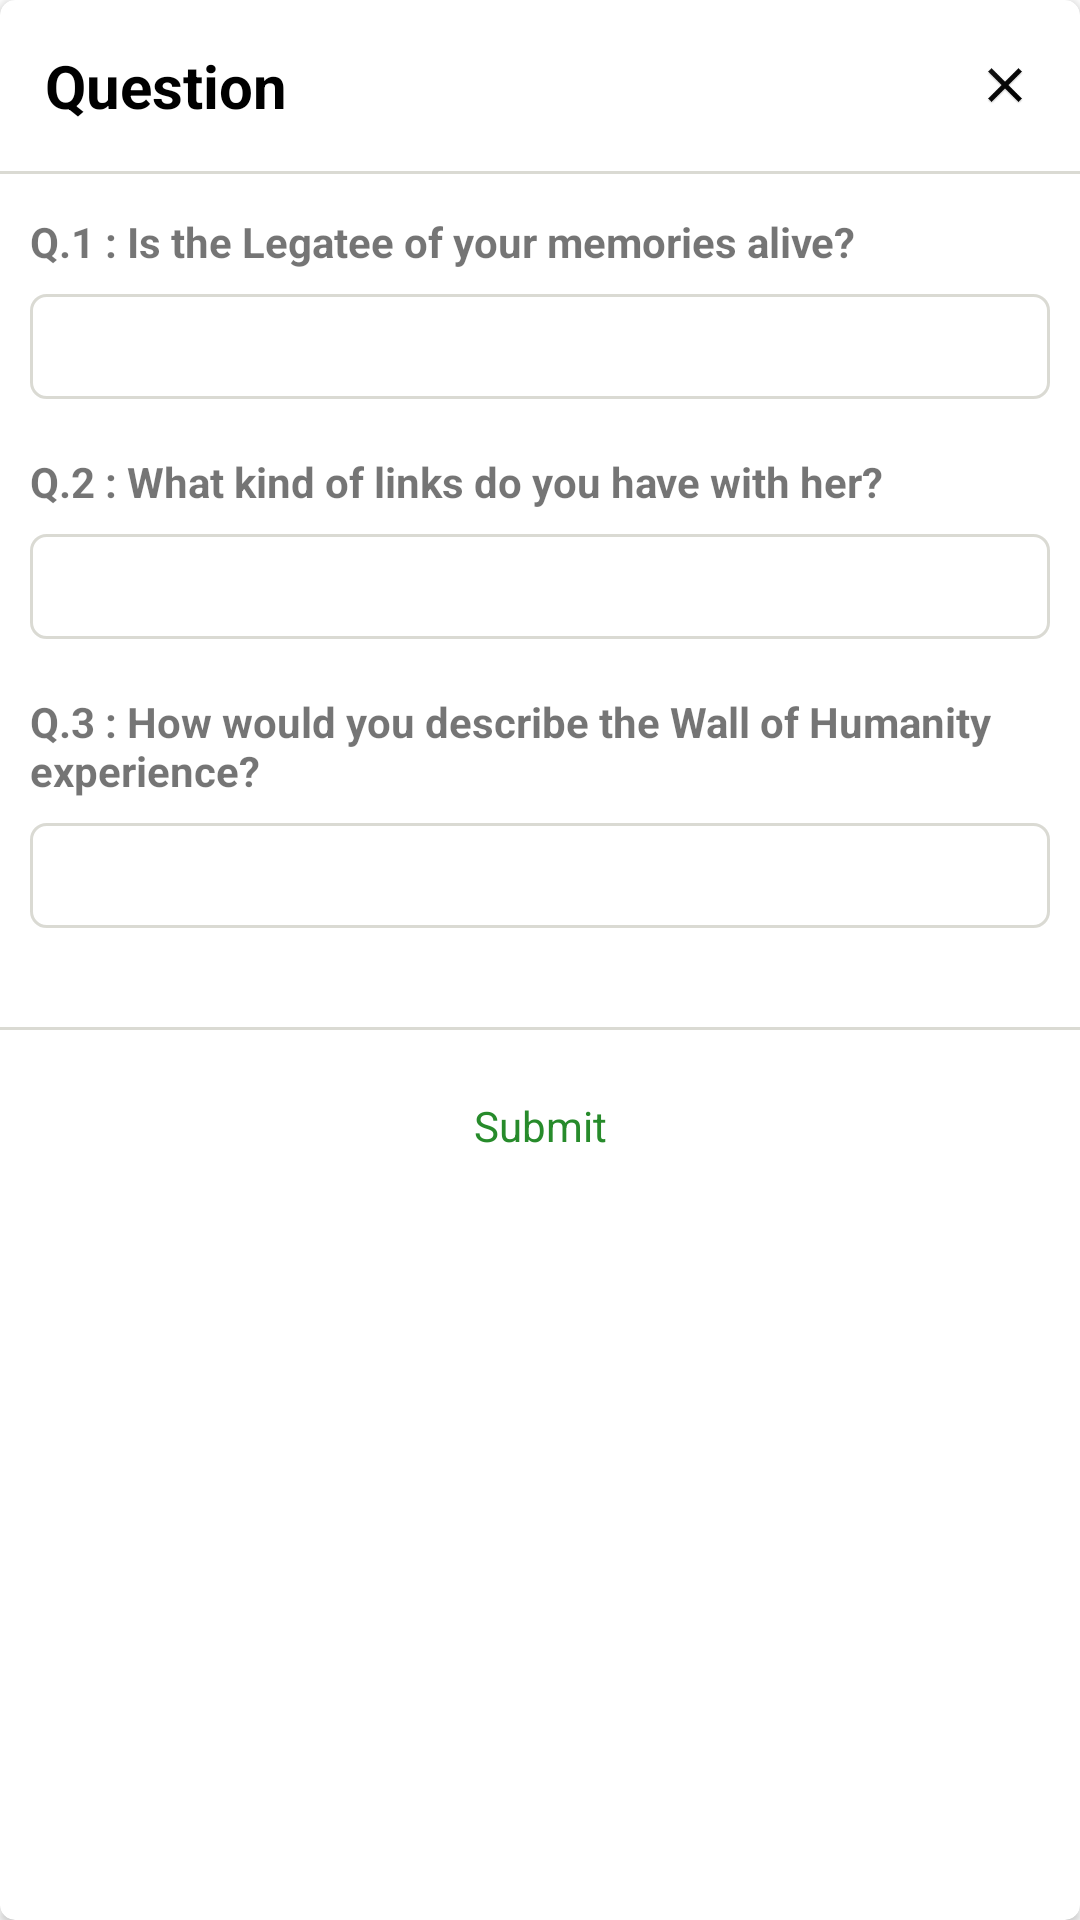

Locate icon controls on the screen. Image size 1080px×1920px, boxes as (x1, y1, x2, y2).
close: (988, 68, 1022, 102)
